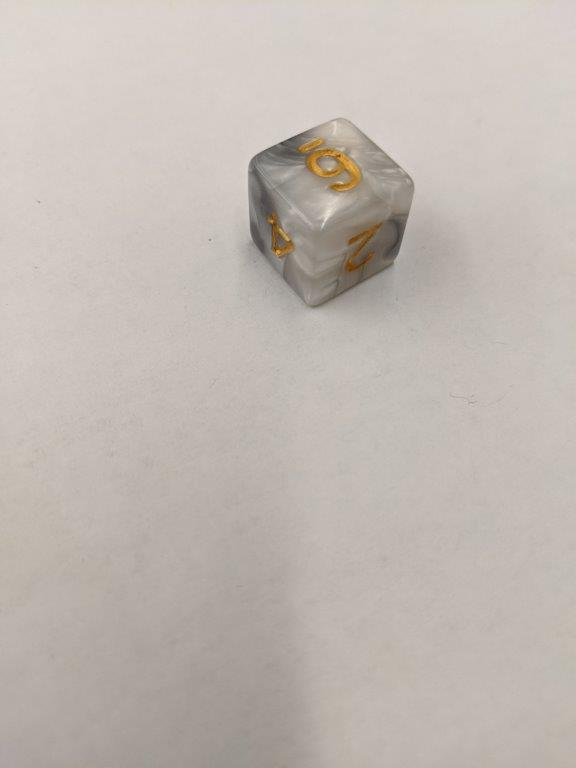d6-6: (248, 117, 415, 304)
